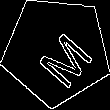M_NW: (23, 17, 90, 85)
